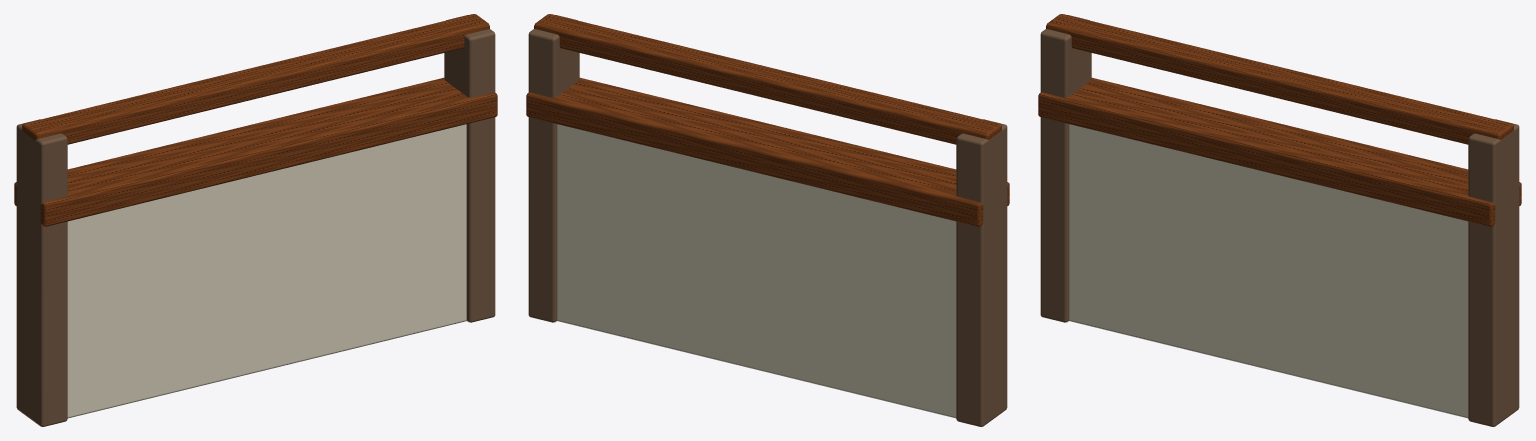
The model's file is adventurers-tavern-and-guild-hall-half-wall-with-rail-ccbb7b71__24666.glb.
3 renders of one model, left to right at view 1: azimuth 30°, elevation 25°; view 2: azimuth 150°, elevation 25°; view 3: azimuth 330°, elevation 25°, orthographic.
Visible parts, largest first — view 1: half-wall-with-rail; view 2: half-wall-with-rail; view 3: half-wall-with-rail.
Part boxes in pixels (x1=…): half-wall-with-rail: x1=14, y1=14, x2=497, y2=426; half-wall-with-rail: x1=526, y1=14, x2=1009, y2=426; half-wall-with-rail: x1=1038, y1=14, x2=1521, y2=426.
Bounding box in the file's own units: 2 × 1.22 × 0.24.
Materials: 3 (1 with a texture image).
